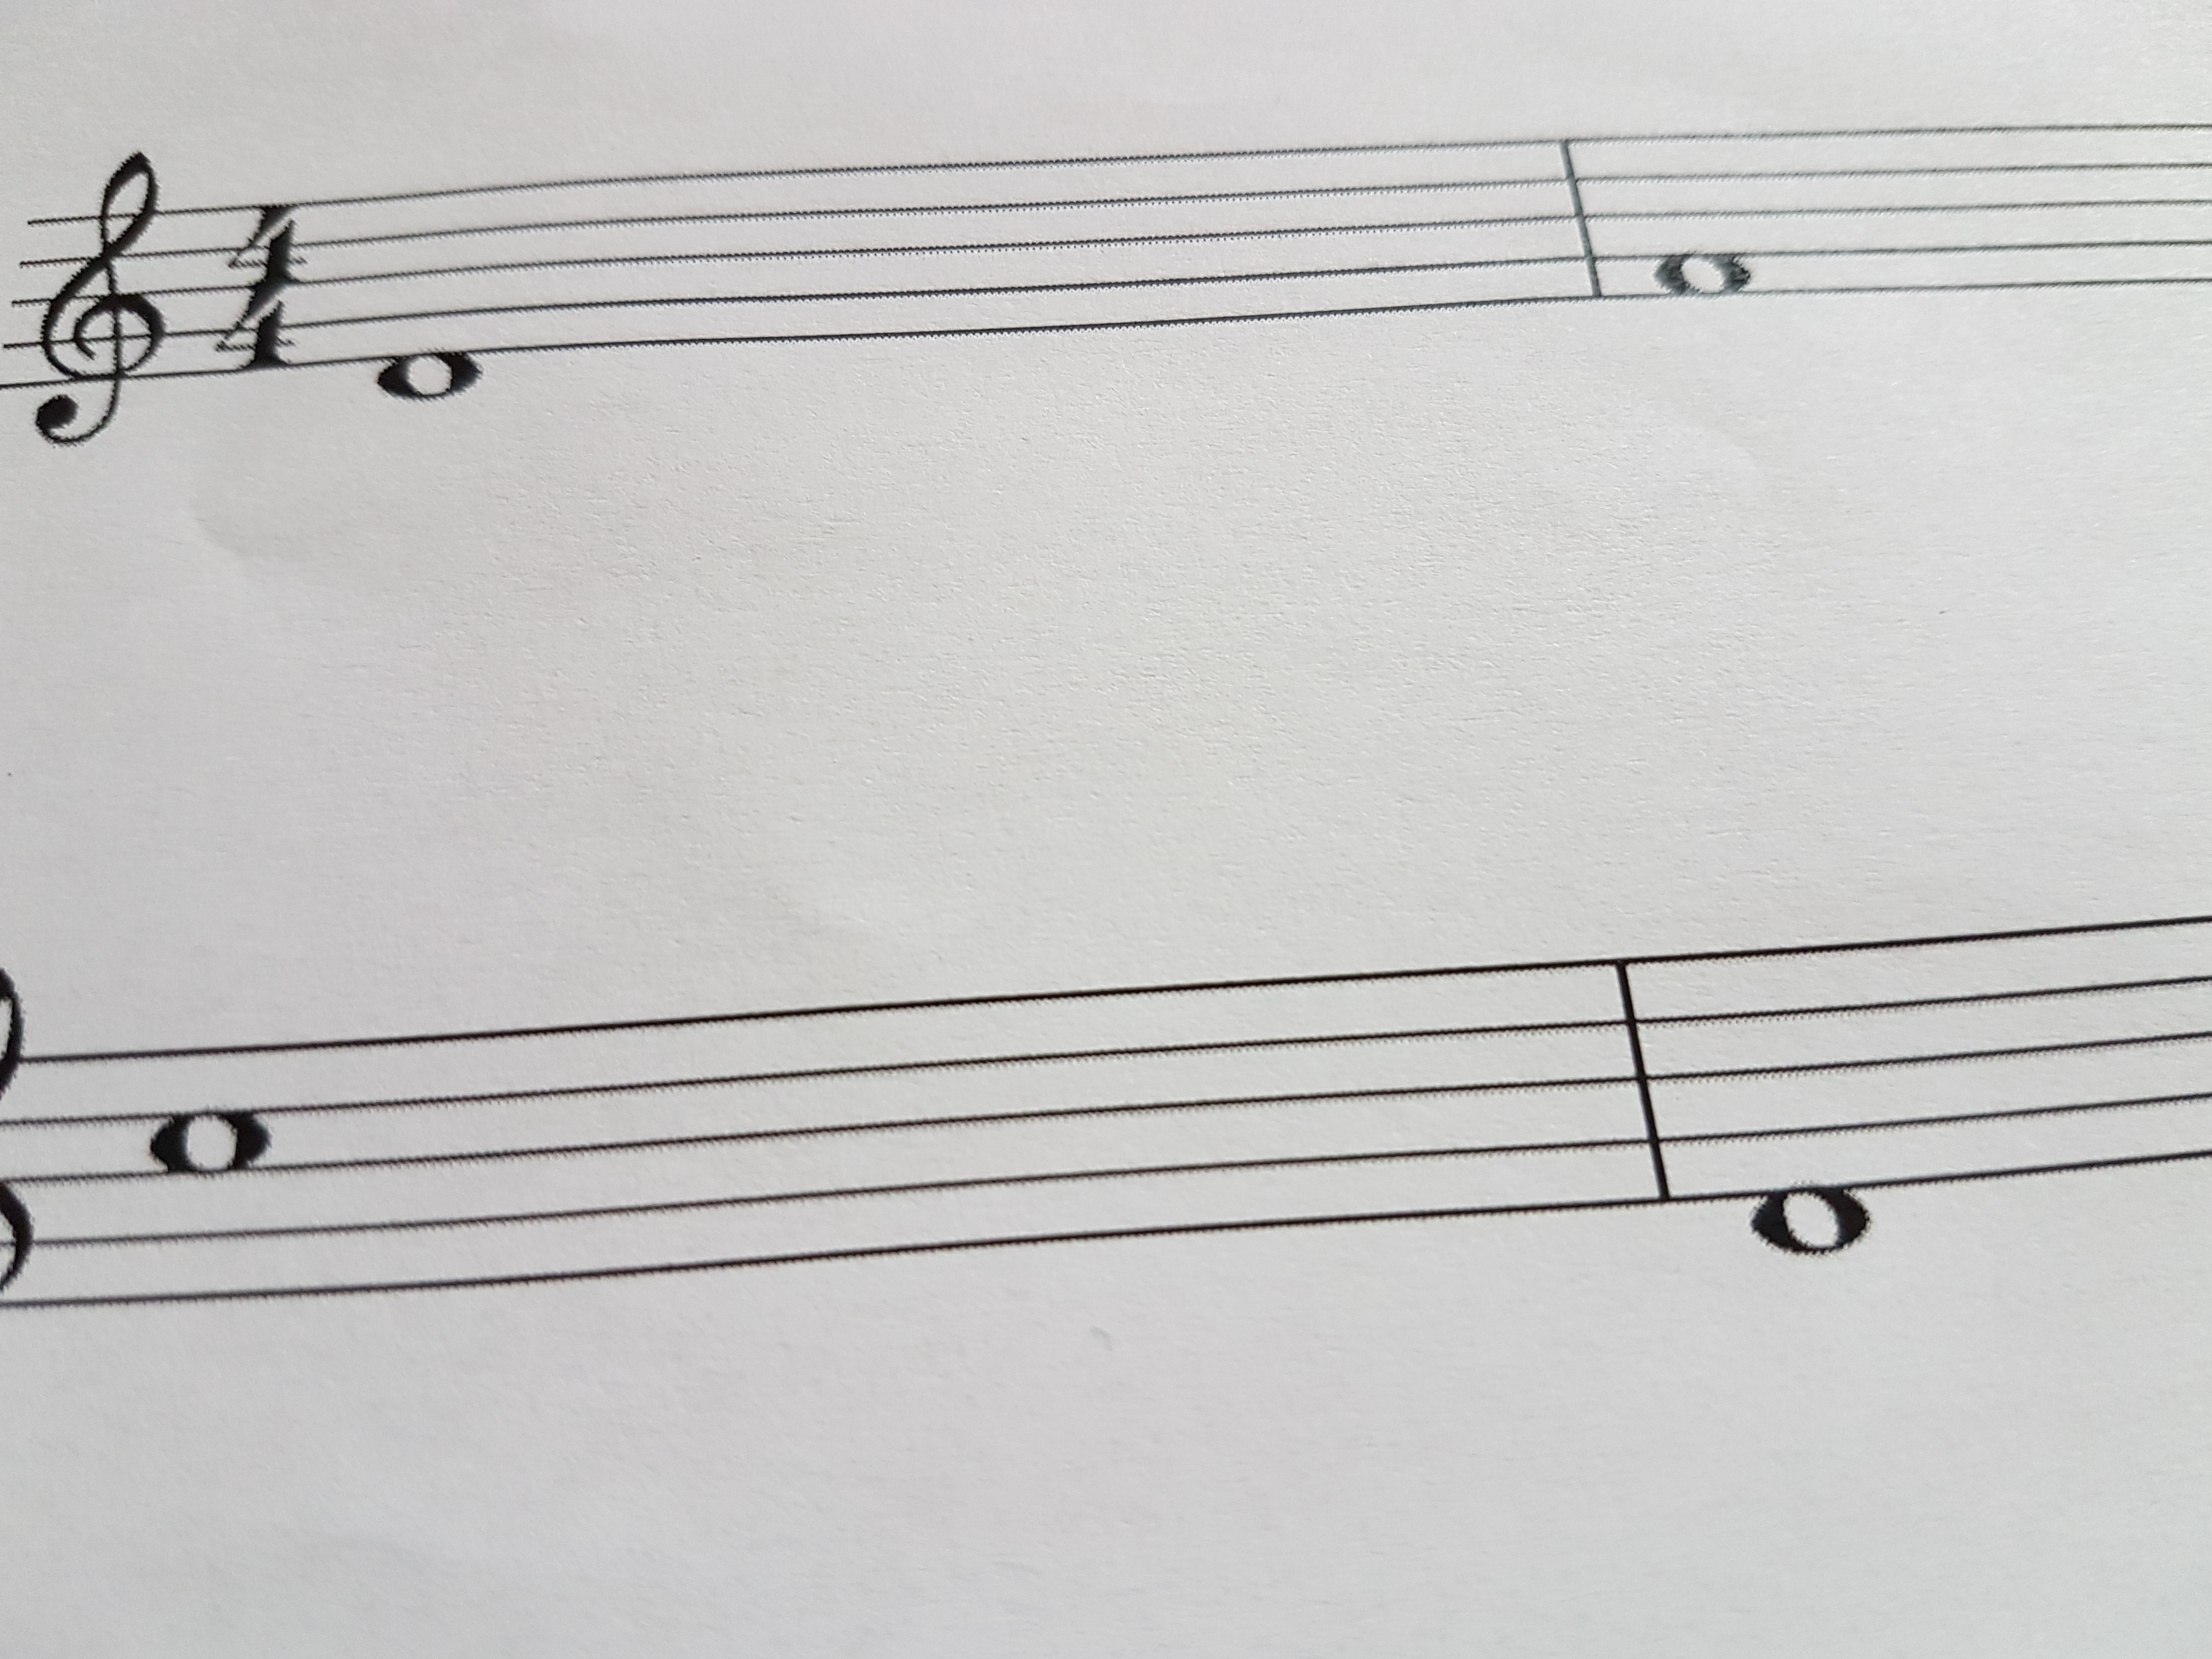key: (21, 134, 174, 477)
pipe: (1599, 936, 1689, 1232), (1548, 115, 1616, 322)
semibreve_c: (131, 972, 284, 1396)
semibreve_d: (1717, 882, 1888, 1356), (357, 153, 495, 465)
semibreve_f: (1632, 84, 1770, 383)
